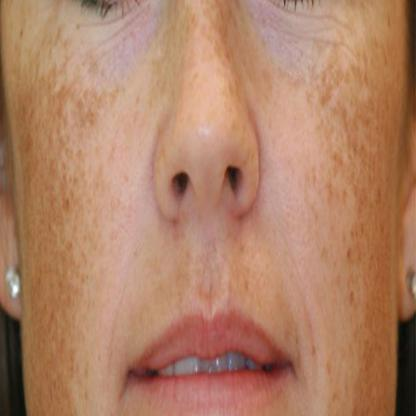darkspot: (310, 45, 408, 415), (14, 48, 102, 400), (153, 0, 271, 127), (280, 325, 304, 361), (130, 92, 144, 139), (121, 168, 134, 196), (242, 273, 249, 294)
